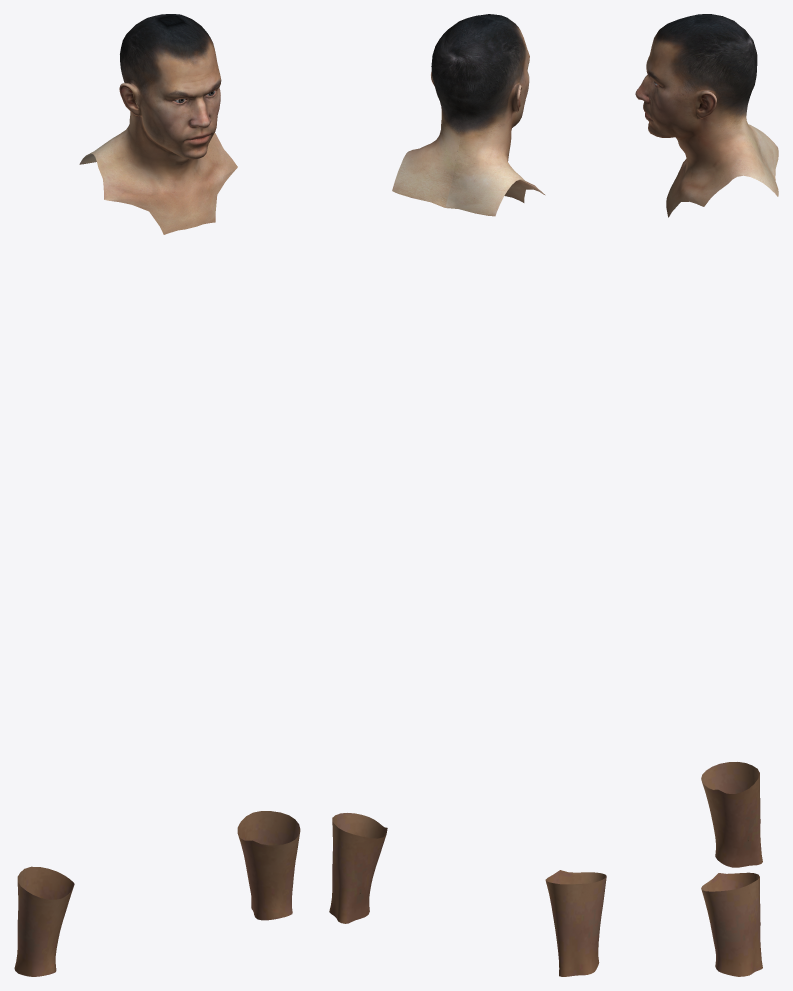
Rendered from nan_juese.FBX.
The picture shows the model from 3 angles, left to right: view 1: azimuth 30°, elevation 25°; view 2: azimuth 150°, elevation 25°; view 3: azimuth 270°, elevation 25°; orthographic projection. The views are drawn at different scales.
Parts seen in each view (by area): view 1: lianbu, jiao; view 2: lianbu, jiao; view 3: lianbu, jiao.
Part boxes in pixels (<box>): lianbu: <box>79,14,237,234</box>; jiao: <box>14,811,300,976</box>; lianbu: <box>392,14,545,216</box>; jiao: <box>329,813,606,976</box>; lianbu: <box>635,14,778,217</box>; jiao: <box>701,762,762,976</box>.
Bounding box in the file's own units: 50.39 × 164 × 23.79.
